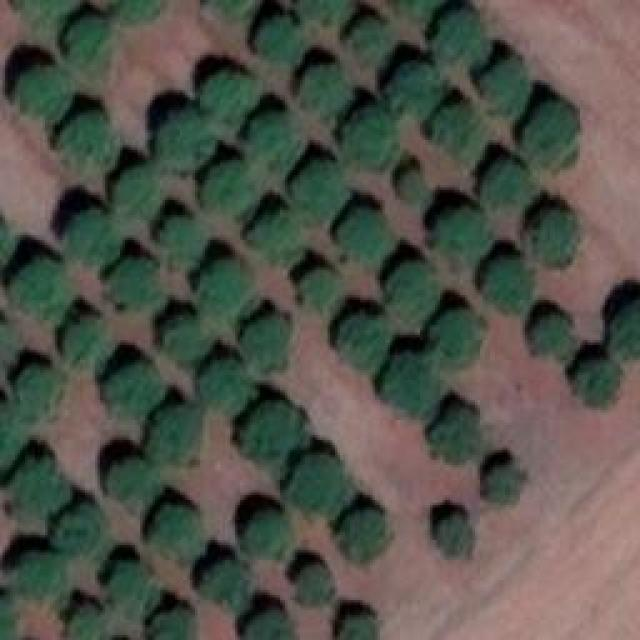Tree: (238, 400, 303, 475), (385, 350, 448, 418), (520, 100, 580, 170), (53, 110, 118, 173), (425, 403, 485, 468), (13, 455, 73, 520), (425, 208, 488, 268), (287, 453, 345, 518), (330, 310, 388, 375), (145, 503, 203, 566), (530, 210, 588, 273), (337, 108, 395, 171), (148, 405, 208, 465), (200, 258, 255, 323), (5, 550, 65, 608), (242, 113, 300, 173), (390, 60, 450, 118), (152, 113, 210, 173), (13, 65, 76, 120), (105, 362, 163, 420), (203, 160, 258, 220), (200, 70, 260, 125), (478, 58, 533, 118), (430, 307, 485, 365), (383, 262, 438, 320), (480, 257, 535, 315), (290, 163, 348, 218), (295, 62, 350, 120), (433, 10, 488, 68), (113, 165, 166, 225), (65, 13, 118, 73), (15, 252, 68, 310), (58, 503, 113, 558), (103, 258, 163, 308), (243, 210, 303, 260), (200, 353, 253, 408), (103, 563, 156, 618), (60, 213, 115, 266), (250, 15, 305, 68), (58, 318, 110, 373), (108, 455, 158, 510), (480, 158, 530, 213), (333, 208, 388, 258), (335, 510, 388, 560), (245, 318, 295, 371), (15, 363, 65, 416), (430, 108, 480, 161), (162, 313, 210, 366), (155, 218, 205, 268), (195, 560, 250, 605), (527, 313, 575, 363), (240, 513, 293, 558), (430, 510, 475, 560), (573, 360, 623, 405), (340, 15, 390, 58), (480, 463, 528, 506), (298, 270, 341, 315), (290, 560, 333, 603), (612, 300, 640, 363), (70, 602, 113, 640), (245, 610, 295, 640), (150, 607, 195, 640), (0, 412, 25, 470), (395, 170, 428, 203), (338, 615, 381, 640), (120, 0, 163, 25), (0, 322, 18, 370), (0, 597, 20, 640)
